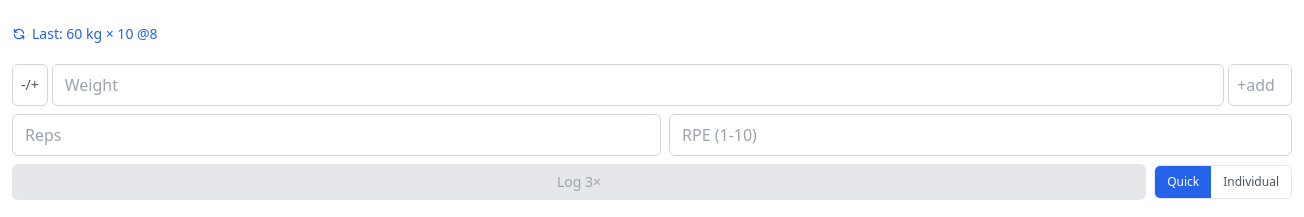
SetLogger › preset from last › fills RPE when prior set has RPE
Click the button with aria-label "Preset from last session" at (49, 34), box [12,12,1292,56]
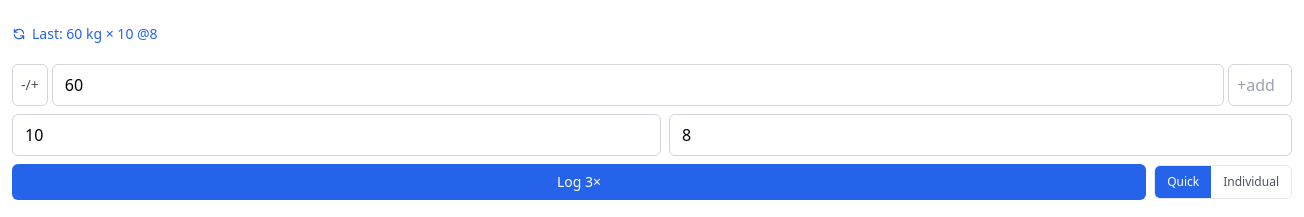
Now the 2nd number field with placeholder "RPE (1-10)" holds "8", box [669,114,1292,156]
